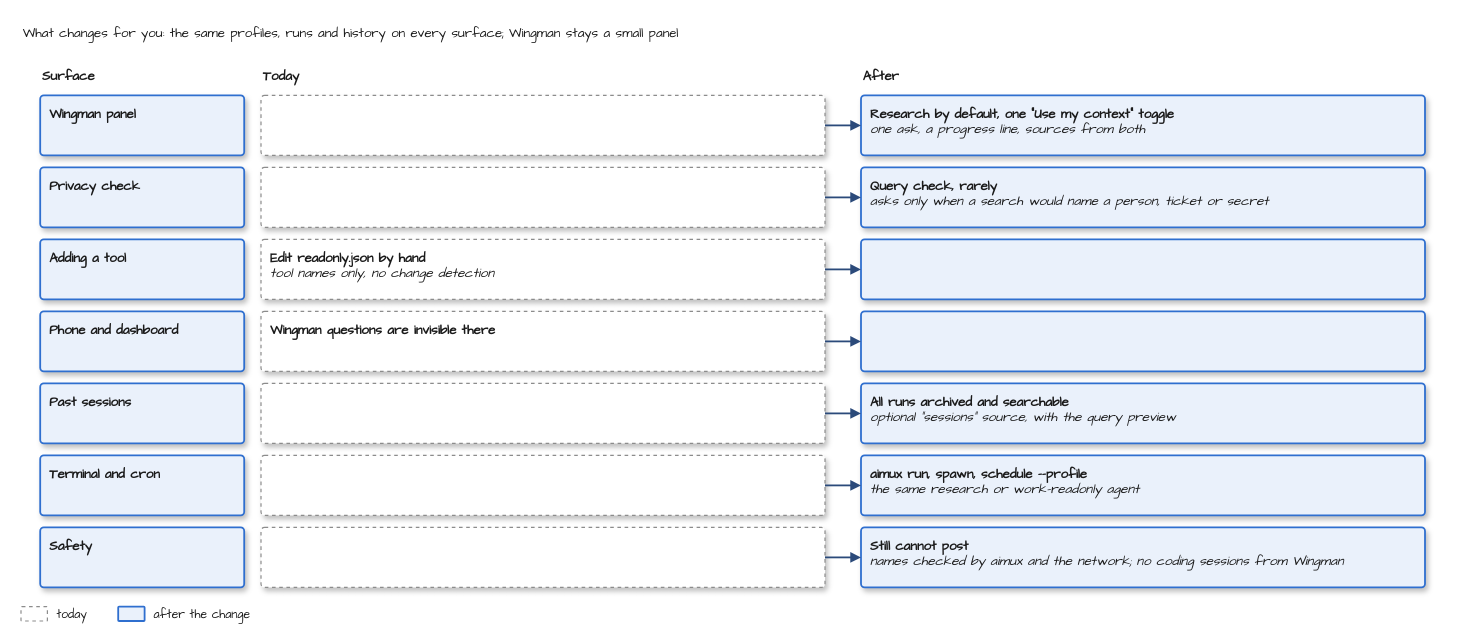
Image size: 1458x643. Some labels were removed from this diagram. Here are the shapes that lost their labels. From the top down, the centre of each, then its label:
the point at 543,126: Page, or Work with my tools research and context are separate asks
the point at 543,198: None needed: Work never reaches the web and Research never sees your tools
the point at 1144,270: aimux tools add, then review once a tool that changes hides until reviewed again
the point at 1144,342: Each Wingman run shows up as one run with its profile; continue it on the phone
the point at 543,414: Work-lane transcripts die with the sandbox Wingman cannot look back
the point at 543,486: Profiles are saved flags no sandboxed read-only agent outside Wingman
the point at 543,558: Wingman cannot post tool names checked once, by aimux
